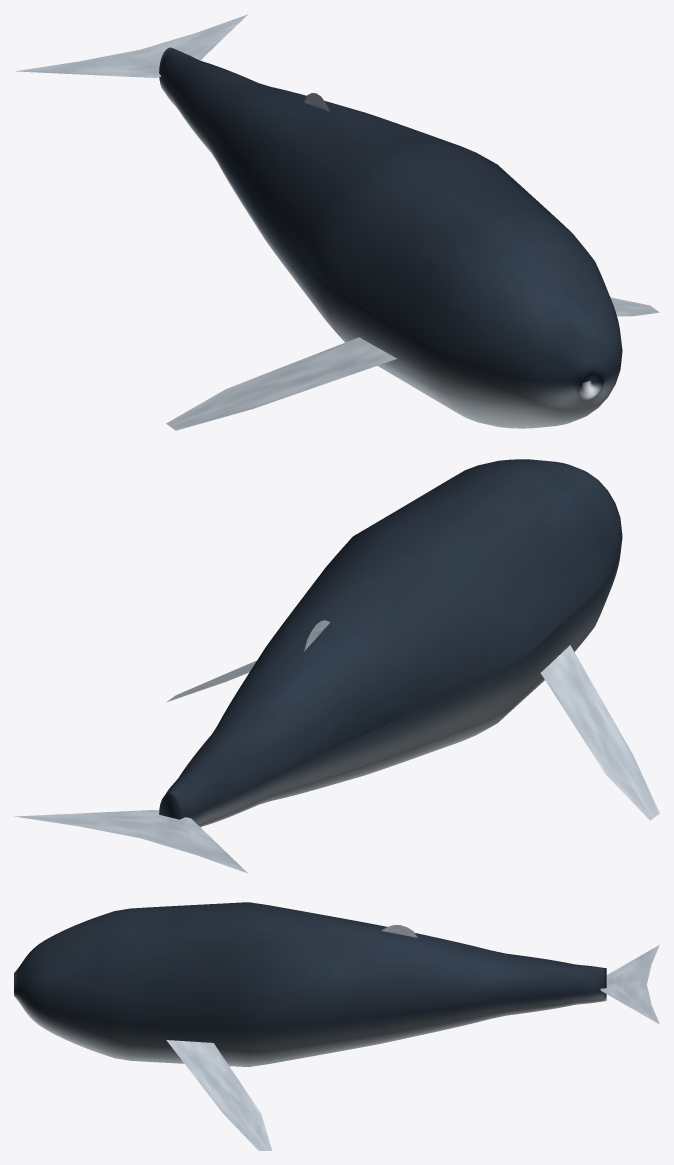
Rendered from humpback_whale.glb.
3 views of the same model, one above another, from view 1: azimuth 30°, elevation 25°; view 2: azimuth 150°, elevation 25°; view 3: azimuth 270°, elevation 25° (orthographic). The views are drawn at different scales.
Size of the model in its own units: 7.93 by 3.54 by 13.08.
Materials: 1 (1 with a texture image).
